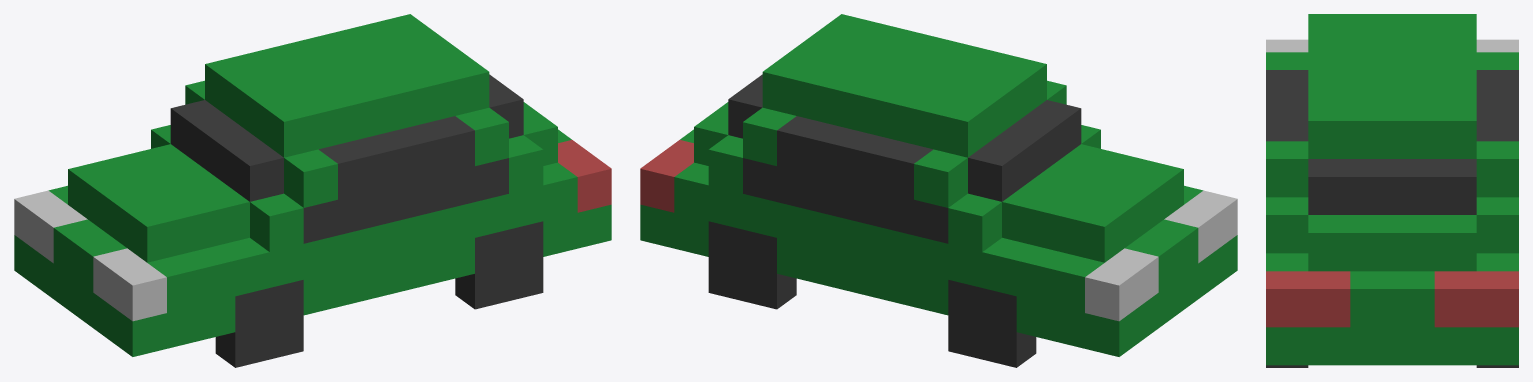
File: car-v2-green.gltf
3 renders of one model, left to right at view 1: azimuth 30°, elevation 25°; view 2: azimuth 150°, elevation 25°; view 3: azimuth 270°, elevation 25°, orthographic. The views are drawn at different scales.
Parts seen in each view (by area): view 1: model, wheels; view 2: model, wheels; view 3: model, wheels.
Boxes of the visible parts, x1=… form: model: x1=14, y1=14, x2=611, y2=356; wheels: x1=215, y1=221, x2=543, y2=367; model: x1=640, y1=14, x2=1237, y2=356; wheels: x1=708, y1=221, x2=1036, y2=367; model: x1=1266, y1=14, x2=1518, y2=365; wheels: x1=1266, y1=365, x2=1518, y2=367.
Bounding box in the file's own units: 1.4 × 0.6 × 0.6.
2 materials, 2 textured.
